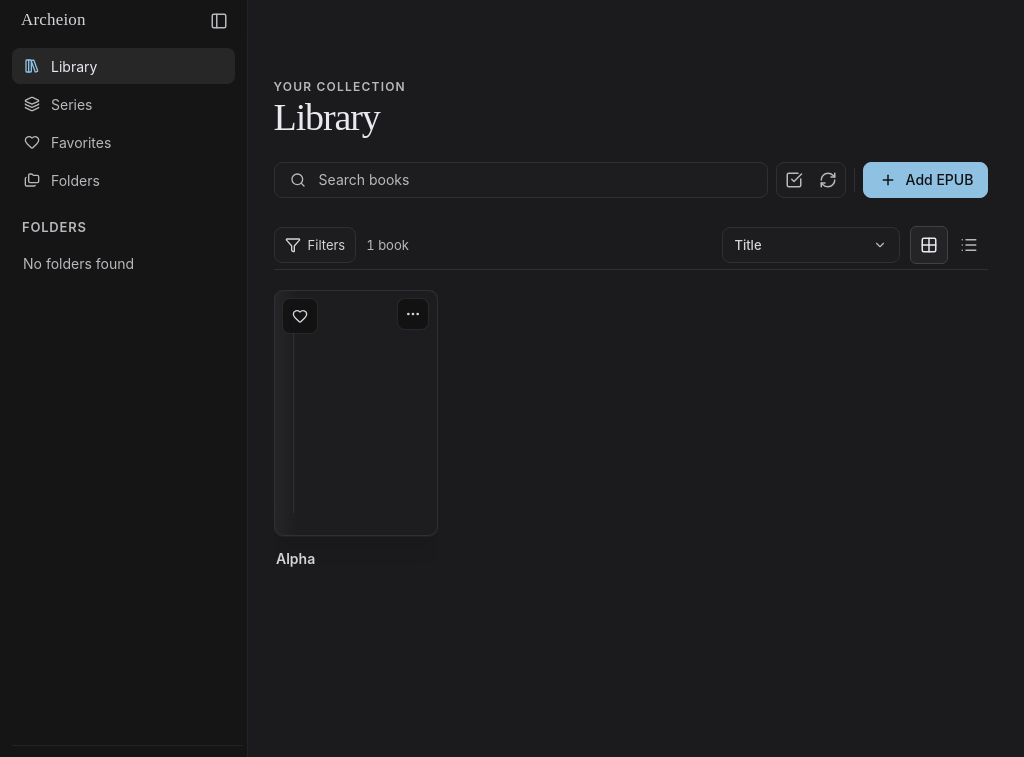
Scenario: LibraryPage dialogs and book actions › opens embedded cover writeback from the book details drawer
Step 1. Click the button "Alpha" → [355, 452], box [274,290,437,613]
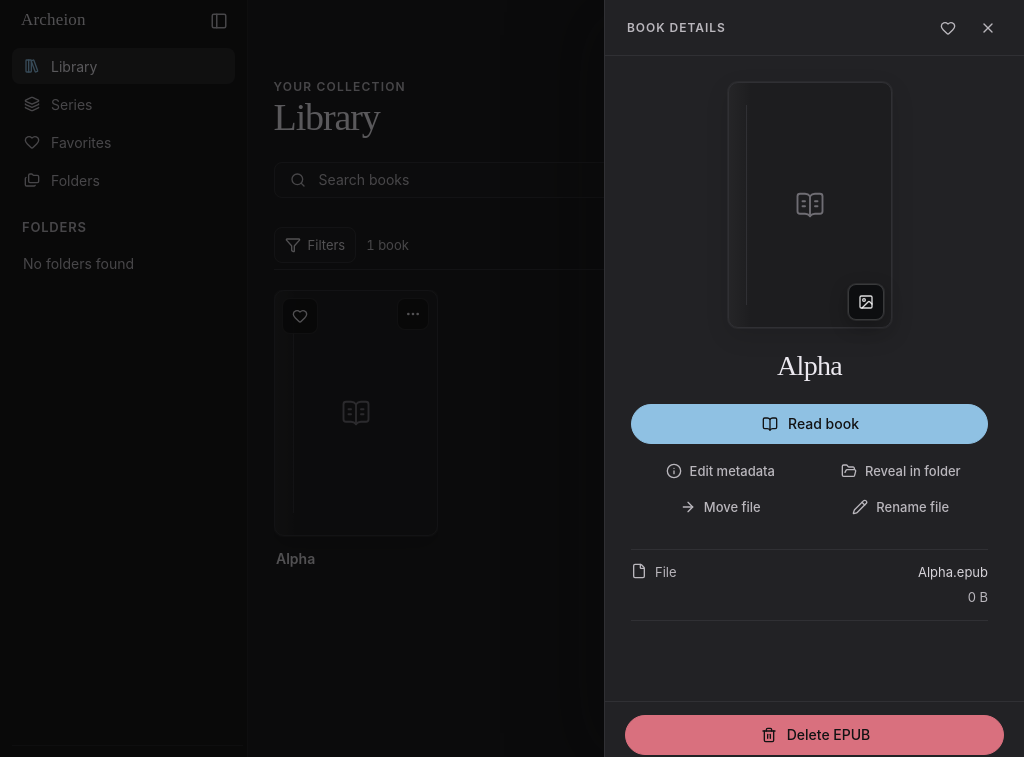
Step 2. Click the button named "Replace cover" → [866, 302], box [848,284,884,320]
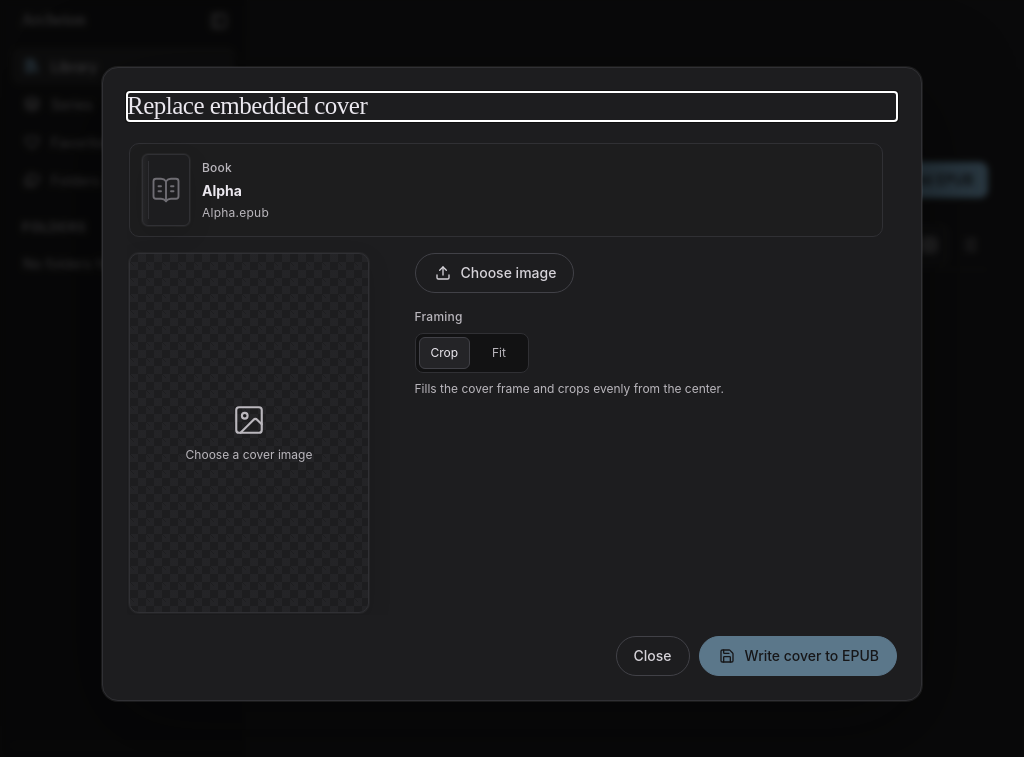
expect the text "Replace embedded cover" is shown: met, box [127,92,367,119]
expect the text "Write cover to EPUB" is shown: met, box [745,647,879,664]
